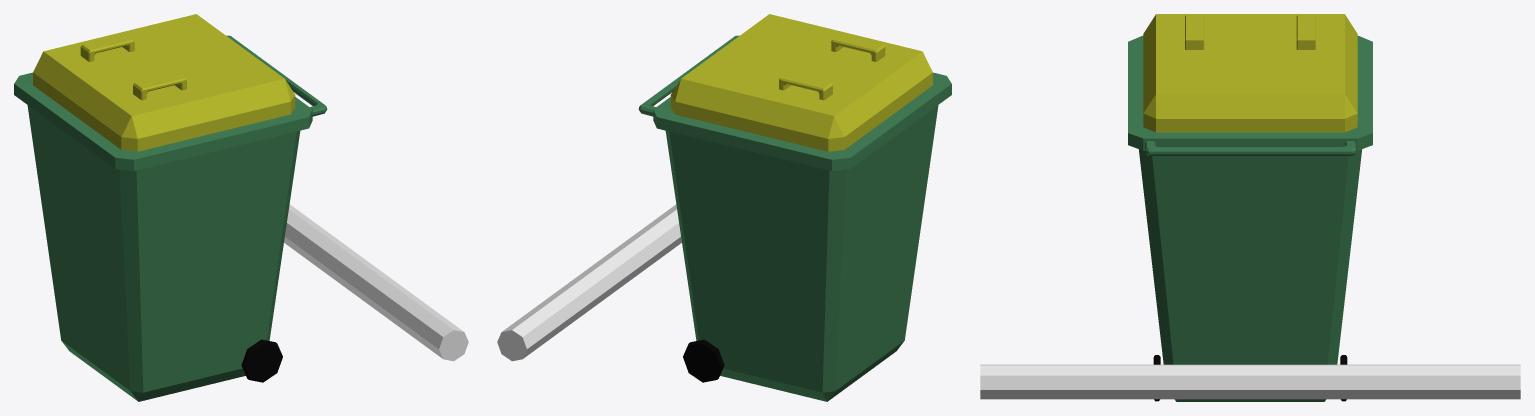
File: garbage_can.glb
The picture shows the model from 3 angles, left to right: view 1: azimuth 30°, elevation 25°; view 2: azimuth 150°, elevation 25°; view 3: azimuth 270°, elevation 25°; orthographic projection. The views are drawn at different scales.
Visible parts, largest first — view 1: GarbageCan, Cylinder; view 2: GarbageCan, Cylinder; view 3: GarbageCan, Cylinder.
Boxes of the visible parts, x1,y1,x2,y2 form: GarbageCan: [14, 14, 327, 401]; Cylinder: [284, 204, 468, 361]; GarbageCan: [638, 14, 951, 401]; Cylinder: [497, 204, 681, 361]; GarbageCan: [1128, 14, 1372, 401]; Cylinder: [980, 364, 1520, 399].
Bounding box in the file's own units: 0.9299 × 0.9904 × 1.47.
